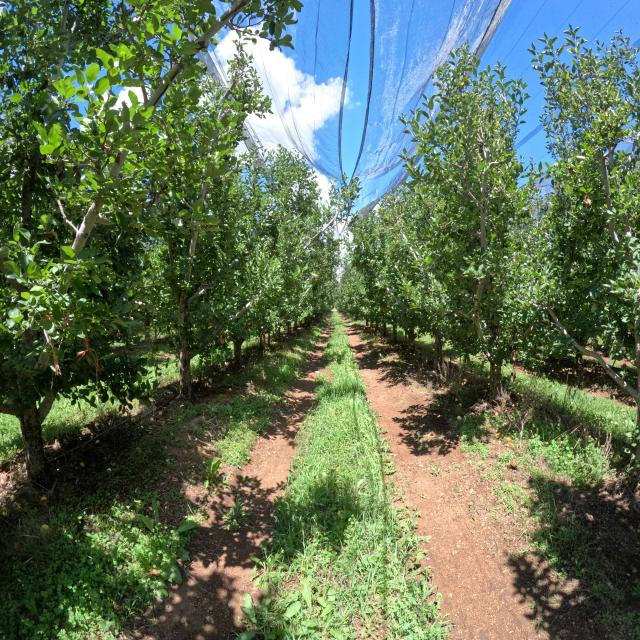-FireBlight-: (220, 336, 224, 344)
